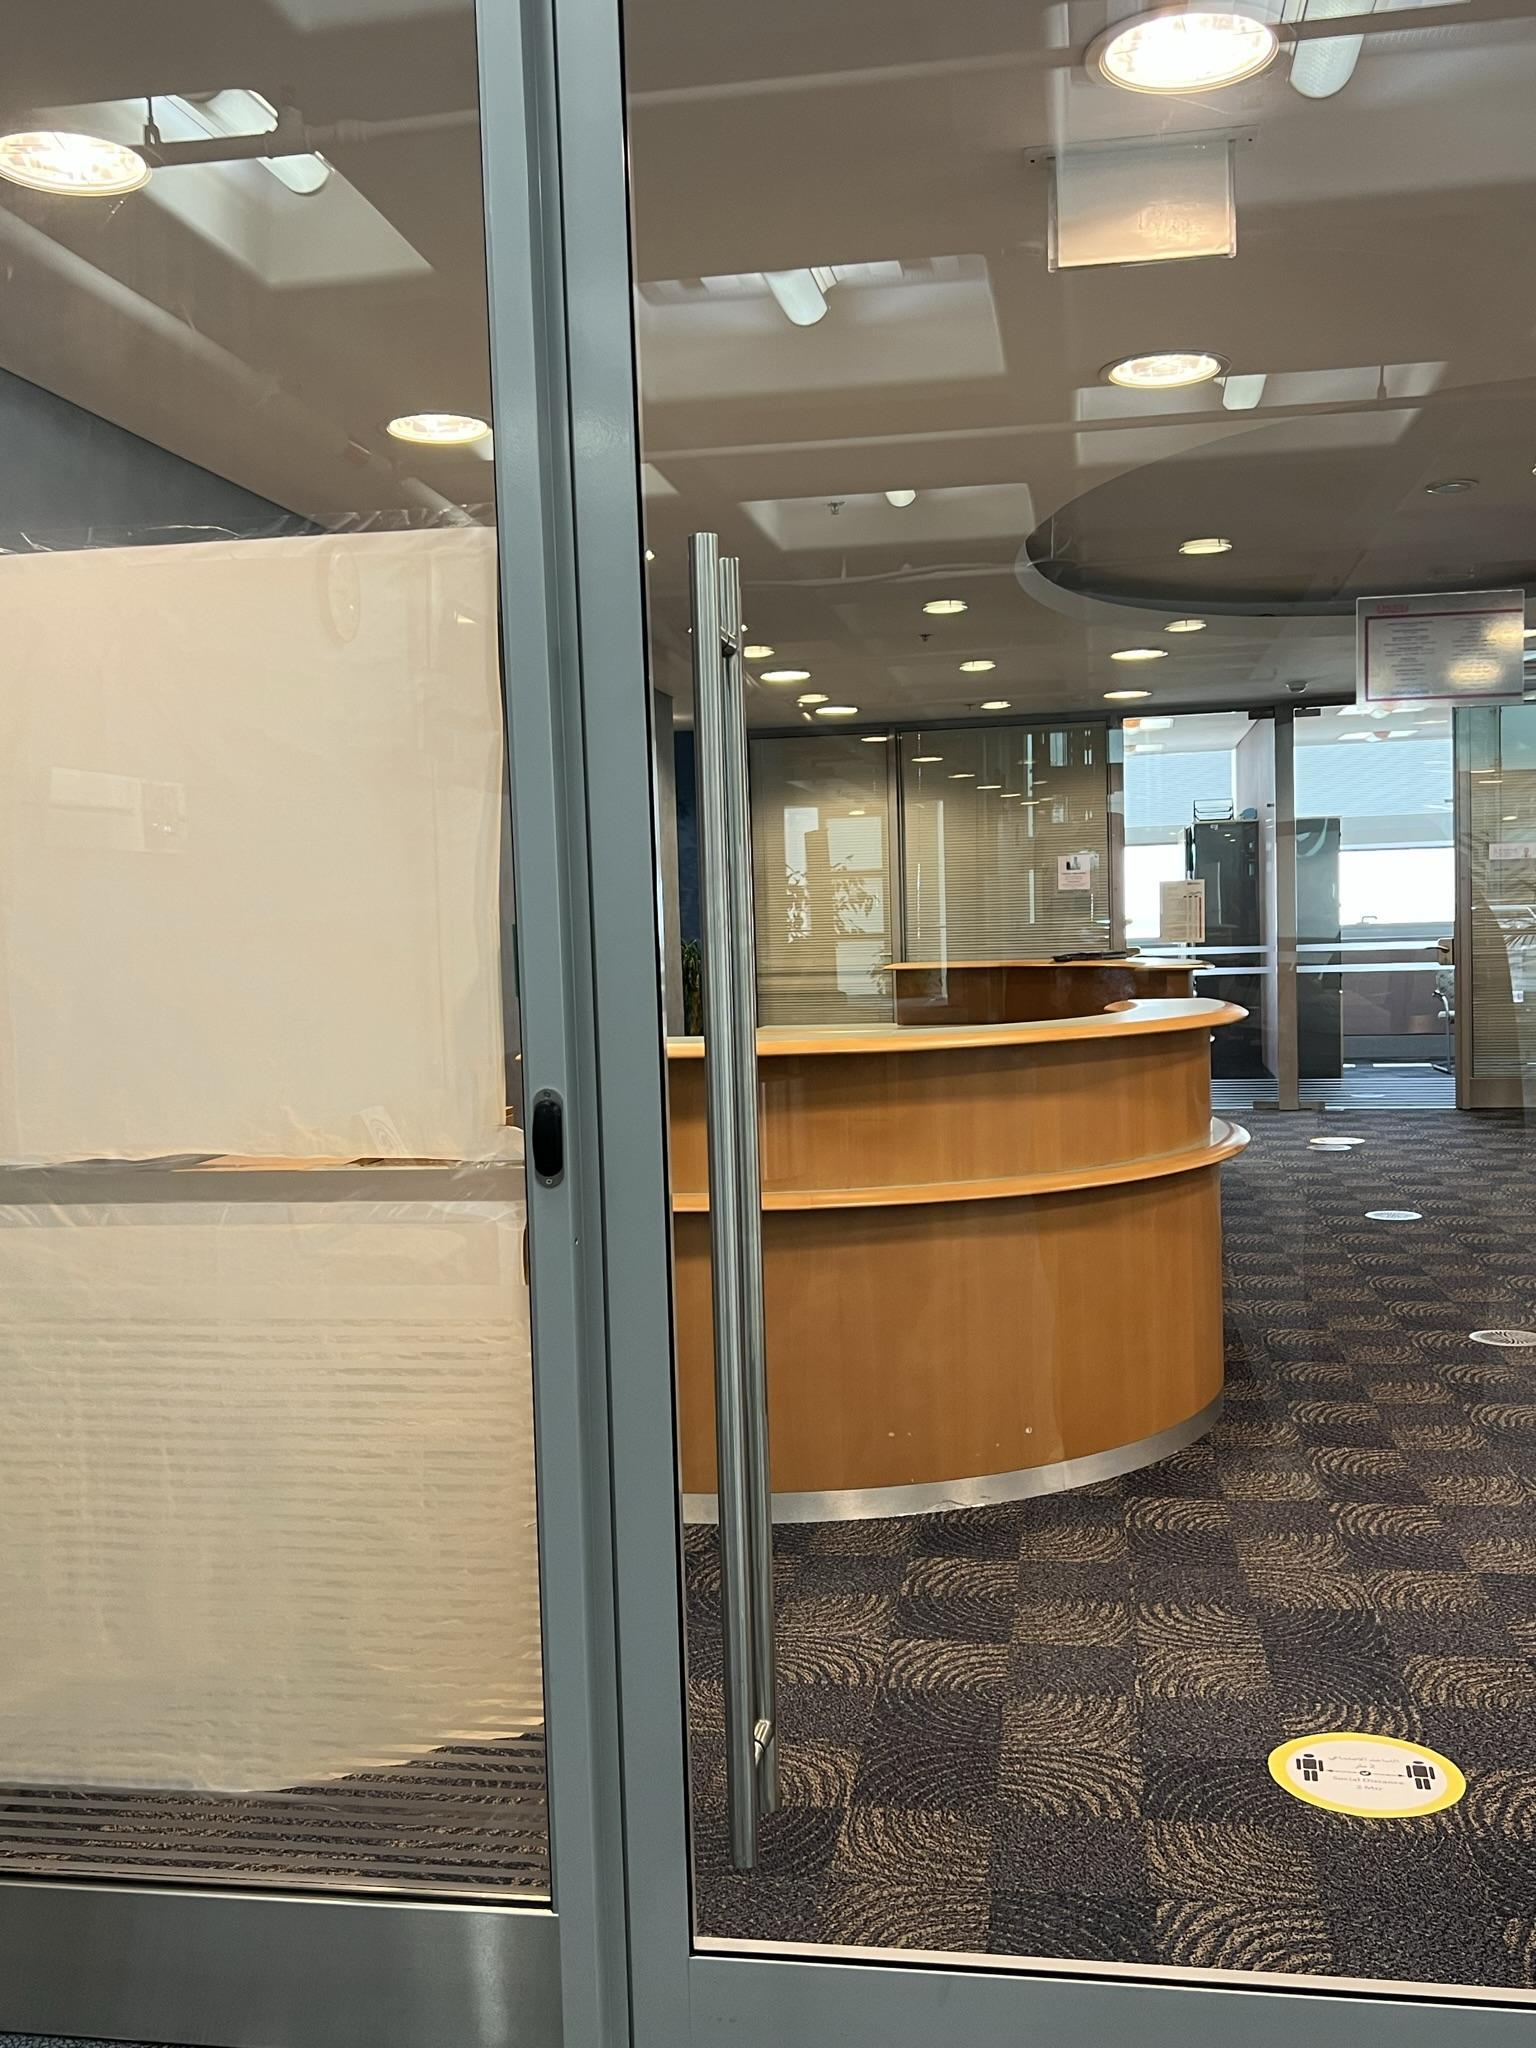door: (502, 0, 1536, 2048)
handle: (666, 535, 797, 1887)
